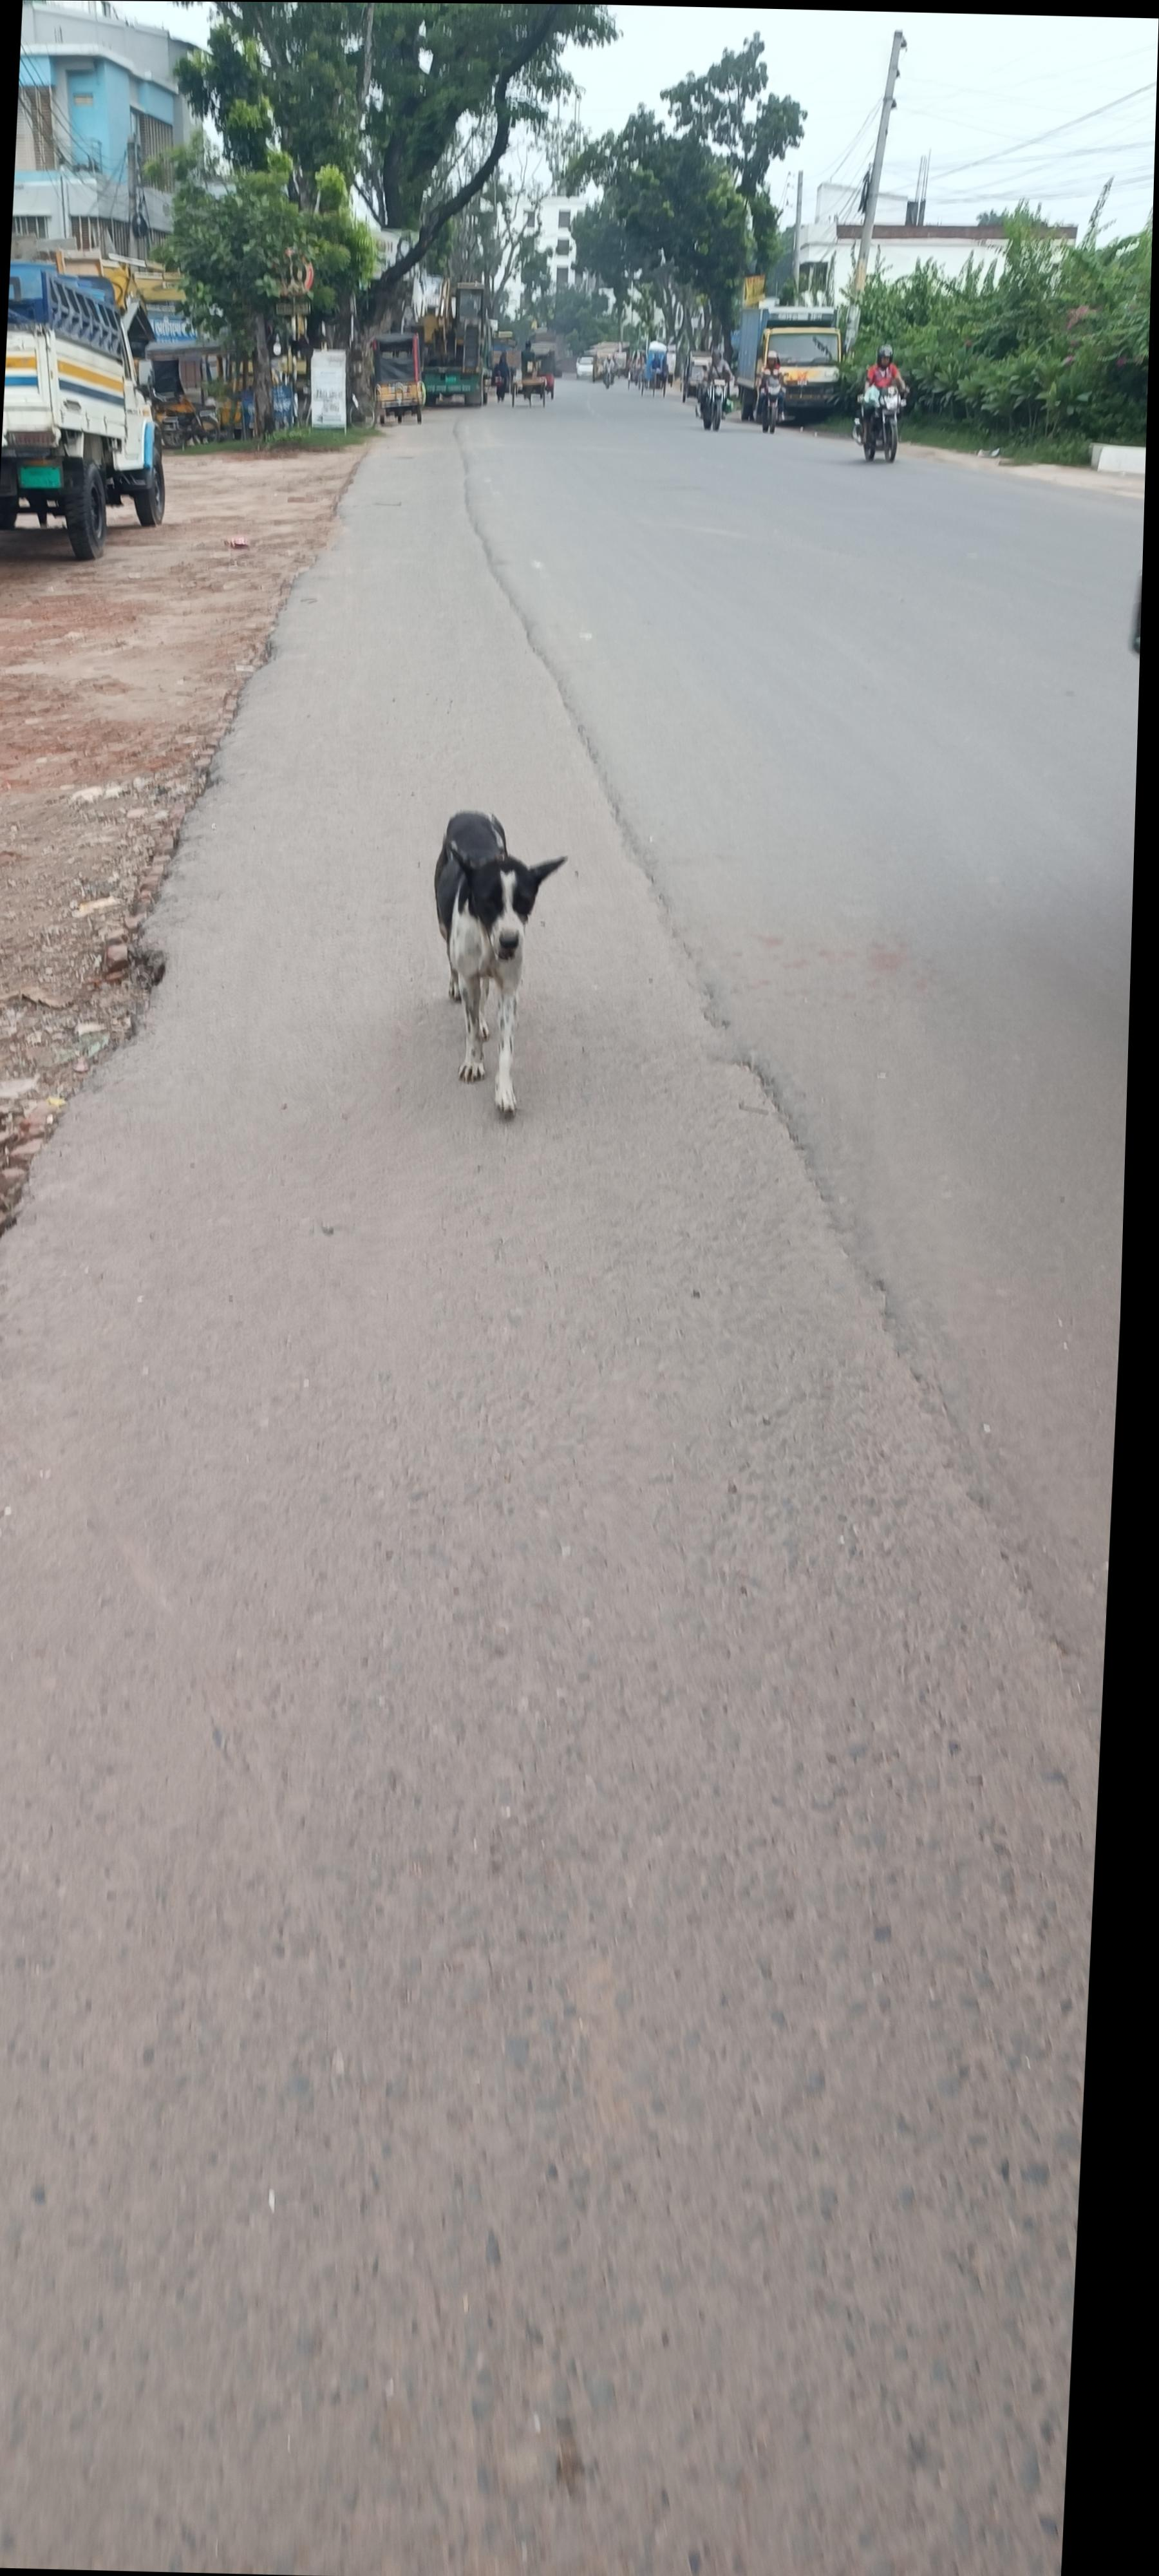Crosswalk: (450, 797, 598, 1106)
Fallen-tree: (877, 370, 931, 452)
Garbage-bin: (883, 334, 934, 432)
Traffic-cone: (391, 322, 451, 416)
